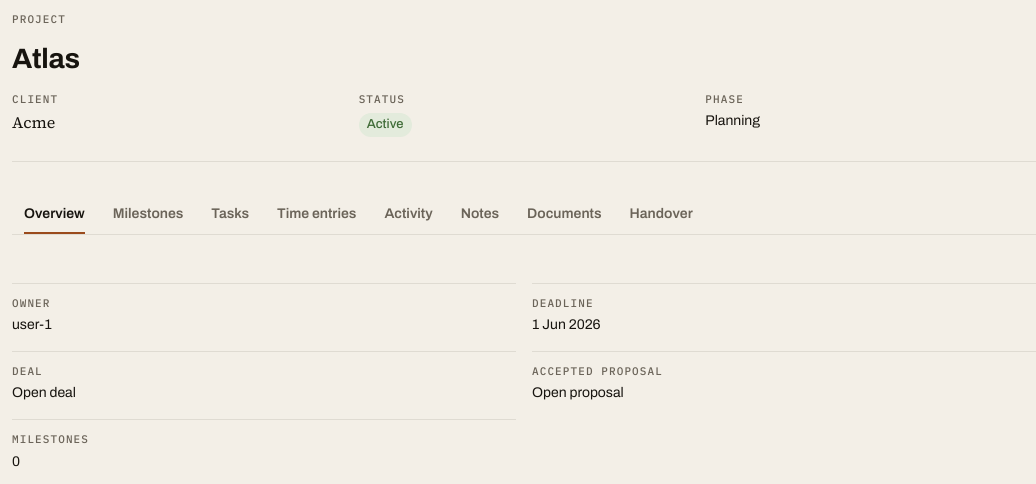
Scenario: Project detail › hides status, phase, and handover edits without projects.manage
The image size is (1036, 484).
Check: the heading "Atlas" is shown, box [12, 42, 80, 76]
Click the tab "Handover": {"x": 661, "y": 214} [618, 194, 705, 234]
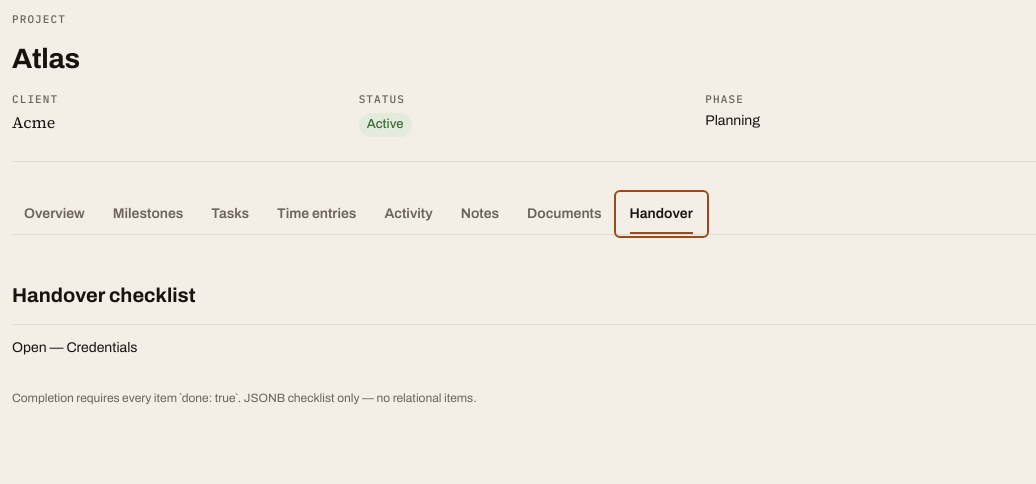
Check: the text "Open — Credentials" is shown, box [12, 340, 138, 355]
